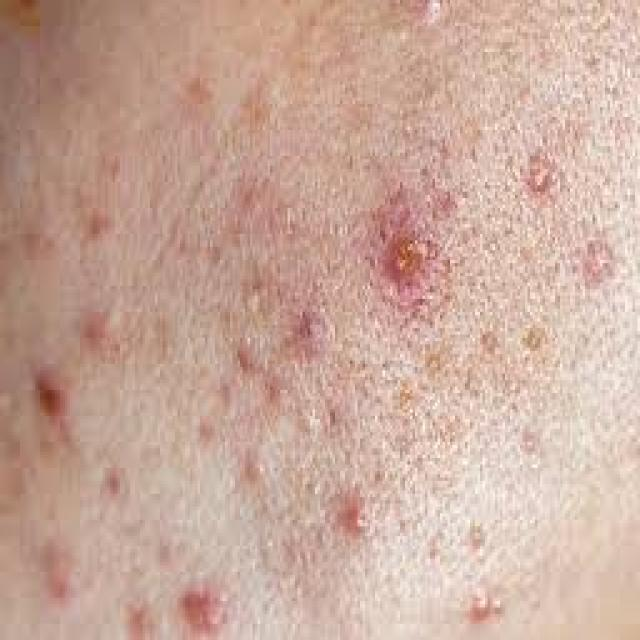Acne: (183, 98, 631, 561), (19, 190, 112, 438), (31, 530, 237, 636)
